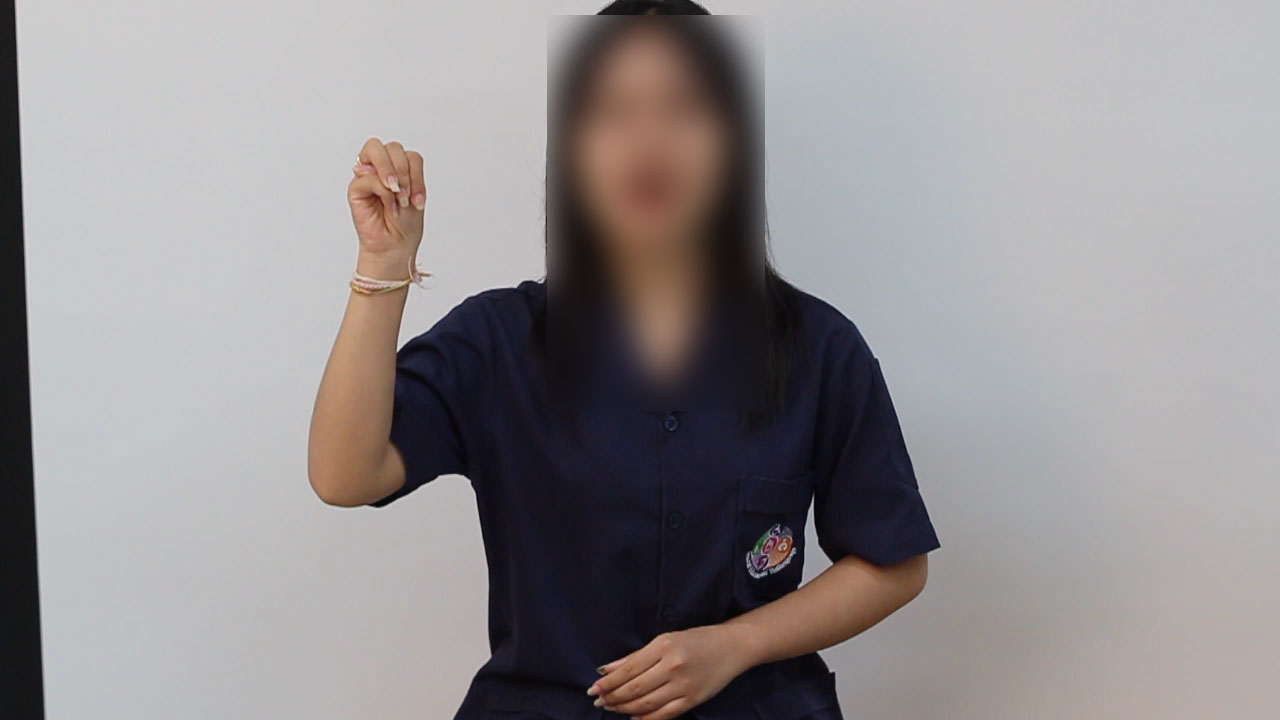mor: (341, 129, 437, 264)
